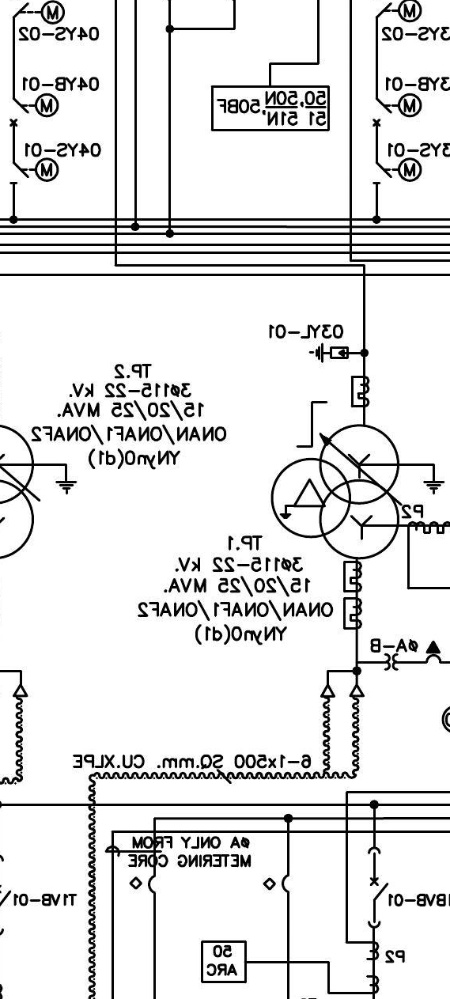11522_tx_ynyn0d1: (270, 423, 400, 560)
115_1way_ds_w_motor: (372, 157, 423, 185), (9, 157, 60, 184)
115_breaker: (372, 98, 393, 127), (9, 98, 30, 127)
115_la: (309, 342, 349, 363)
22_breaker: (367, 846, 389, 929)
terminator_double: (320, 669, 365, 698)
